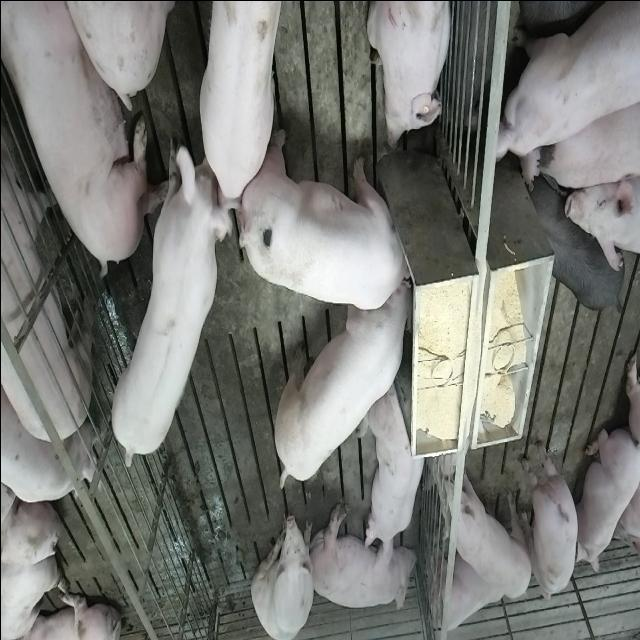Feeding: (244, 127, 421, 310), (269, 280, 411, 496)
Lateral_lying: (306, 500, 416, 612)
Sitting: (250, 503, 314, 638)
Standing: (104, 142, 232, 476), (0, 0, 94, 447), (492, 0, 638, 182), (198, 0, 286, 204), (526, 183, 624, 314), (446, 470, 534, 598), (534, 89, 640, 193), (566, 172, 640, 271)
Sternal_lying: (366, 0, 454, 151), (364, 382, 430, 562), (575, 426, 637, 574)
